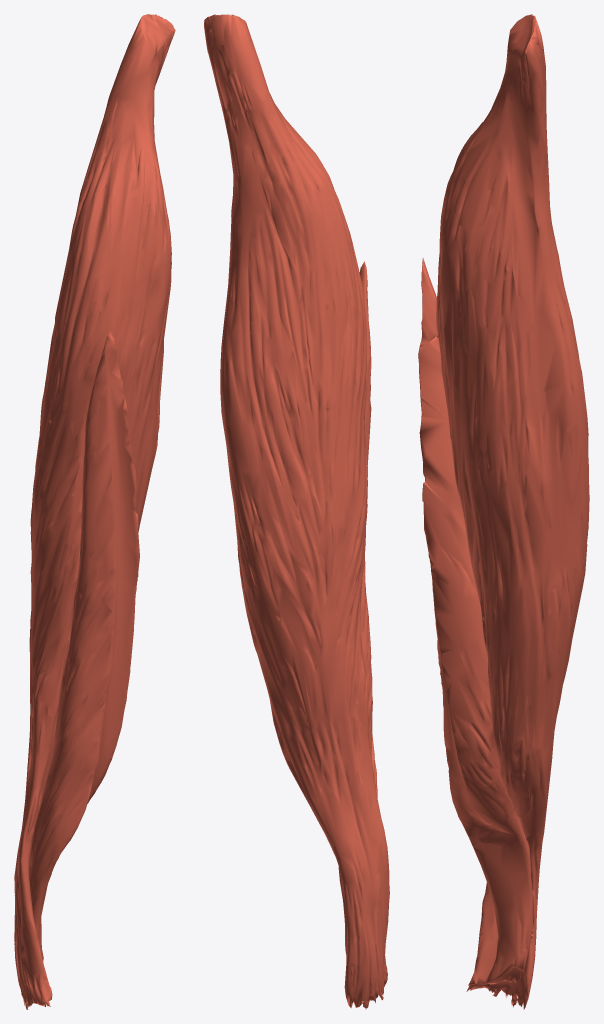
Rendered from biceps-femoris.glb.
3 renders of one model, left to right at view 1: azimuth 30°, elevation 25°; view 2: azimuth 150°, elevation 25°; view 3: azimuth 270°, elevation 25°, orthographic. The views are drawn at different scales.
Visible parts, largest first — view 1: Long head of biceps femoris muscle.r, Short head of biceps femoris muscle.r; view 2: Long head of biceps femoris muscle.r, Short head of biceps femoris muscle.r; view 3: Long head of biceps femoris muscle.r, Short head of biceps femoris muscle.r.
Part boxes in pixels (x1,y1,x2,y2): Long head of biceps femoris muscle.r: (14, 14, 175, 1009); Short head of biceps femoris muscle.r: (29, 331, 139, 961); Long head of biceps femoris muscle.r: (204, 14, 389, 1009); Short head of biceps femoris muscle.r: (338, 261, 377, 961); Long head of biceps femoris muscle.r: (436, 14, 589, 1009); Short head of biceps femoris muscle.r: (418, 258, 533, 984).
Bounding box in the file's own units: 0.0783 × 0.426 × 0.0624.
